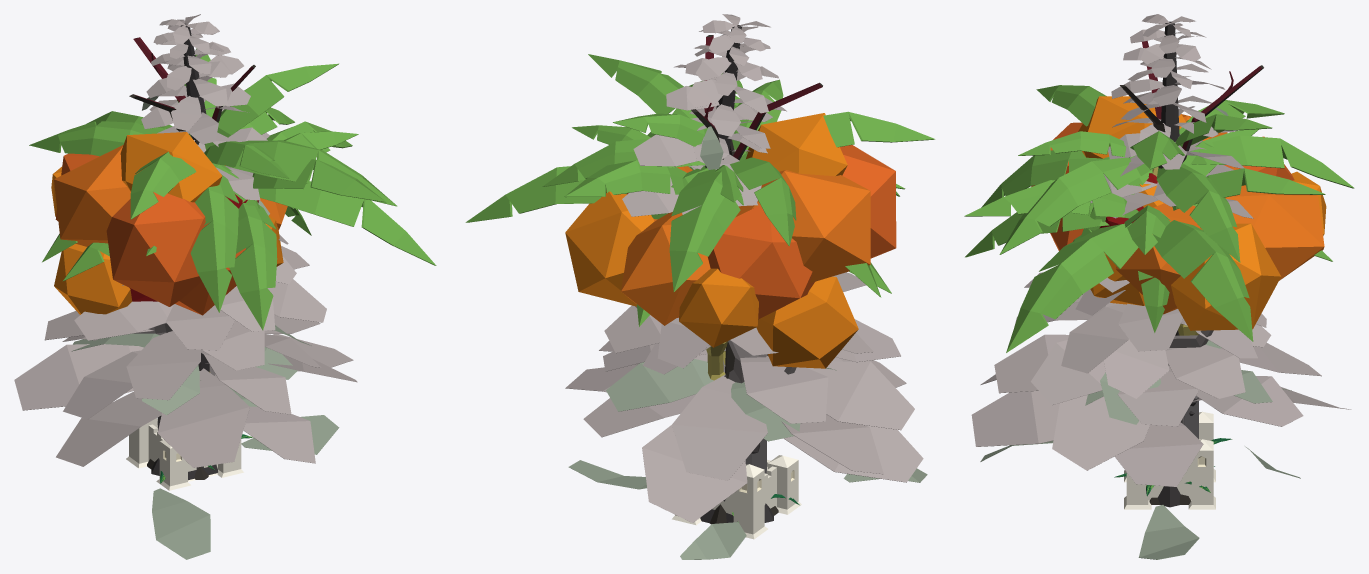
File: EnviromentAssets.fbx
3 renders of one model, left to right at view 1: azimuth 30°, elevation 25°; view 2: azimuth 150°, elevation 25°; view 3: azimuth 270°, elevation 25°, orthographic. The views are drawn at different scales.
Parts seen in each view (by area): view 1: Fir_White, StraightPalmTree, MapleTree_1, CurvedPalmTree, SplitTree, MapleTree_2, Sandcastle; view 2: Fir_White, MapleTree_1, StraightPalmTree, MapleTree_2, SplitTree, CurvedPalmTree, Sandcastle; view 3: Fir_White, CurvedPalmTree, StraightPalmTree, MapleTree_2, MapleTree_1, SplitTree, Sandcastle.
Part boxes in pixels (bbox=[...]): Fir_White: bbox=[14, 14, 357, 467]; StraightPalmTree: bbox=[29, 48, 397, 372]; MapleTree_1: bbox=[51, 132, 258, 375]; CurvedPalmTree: bbox=[63, 105, 436, 330]; SplitTree: bbox=[71, 37, 339, 559]; MapleTree_2: bbox=[54, 165, 287, 335]; Sandcastle: bbox=[126, 418, 243, 490]; Fir_White: bbox=[565, 14, 923, 522]; MapleTree_1: bbox=[621, 113, 896, 383]; StraightPalmTree: bbox=[542, 54, 935, 380]; MapleTree_2: bbox=[565, 166, 858, 374]; SplitTree: bbox=[568, 35, 927, 559]; CurvedPalmTree: bbox=[465, 73, 905, 364]; Sandcastle: bbox=[672, 455, 801, 539]; Fir_White: bbox=[971, 14, 1351, 486]; CurvedPalmTree: bbox=[964, 129, 1332, 352]; StraightPalmTree: bbox=[981, 85, 1354, 335]; MapleTree_2: bbox=[1050, 184, 1281, 365]; MapleTree_1: bbox=[1031, 96, 1326, 424]; SplitTree: bbox=[980, 40, 1300, 559]; Sandcastle: bbox=[1124, 411, 1215, 509].
Size of the model in its own units: 1497 by 1826 by 1347.
